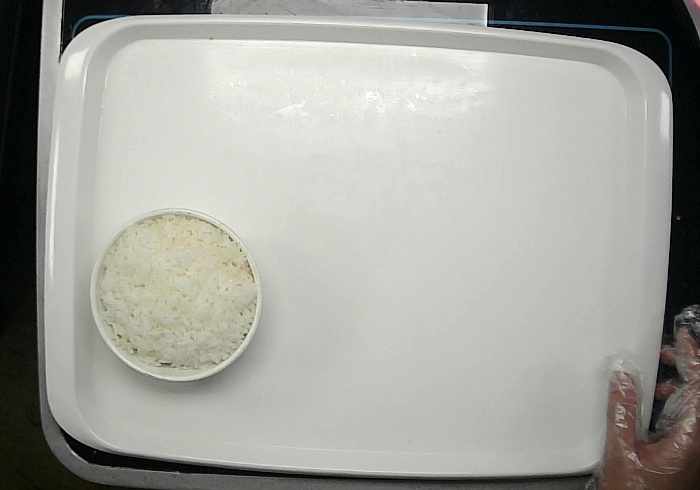HZYJPL-Fan_Wan: (89, 206, 265, 381)
